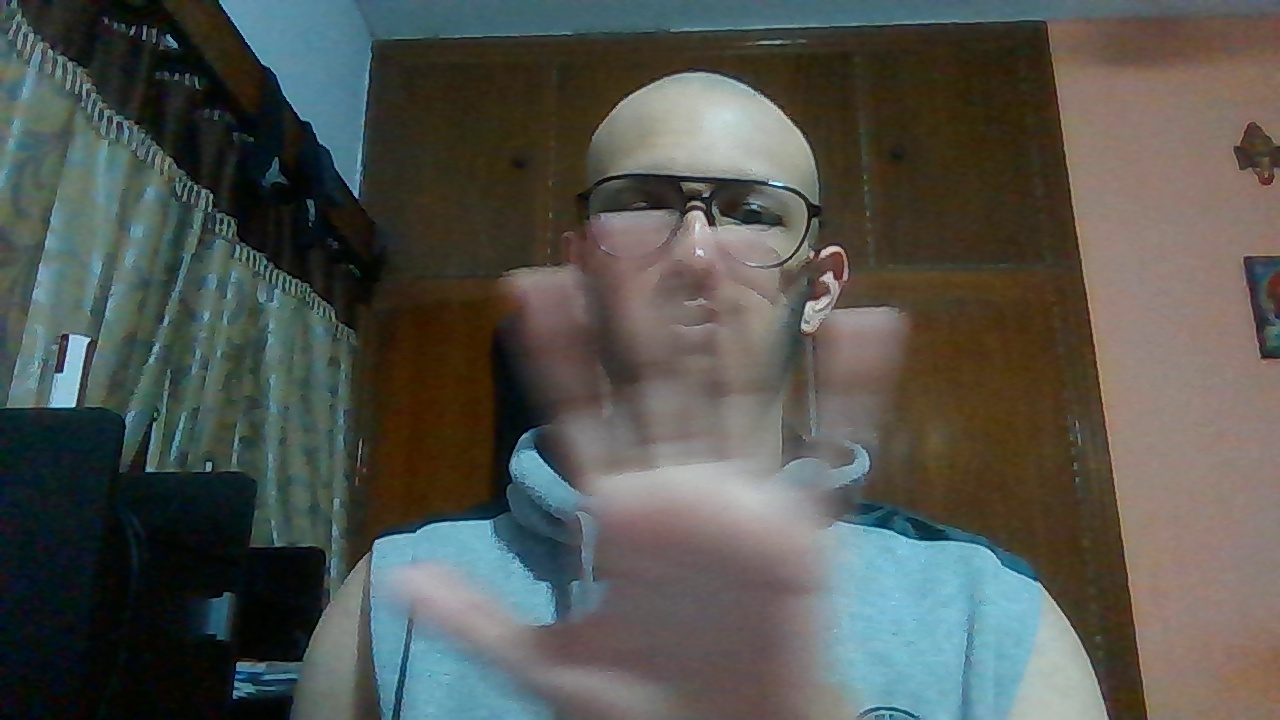Hello: (383, 220, 913, 720)
